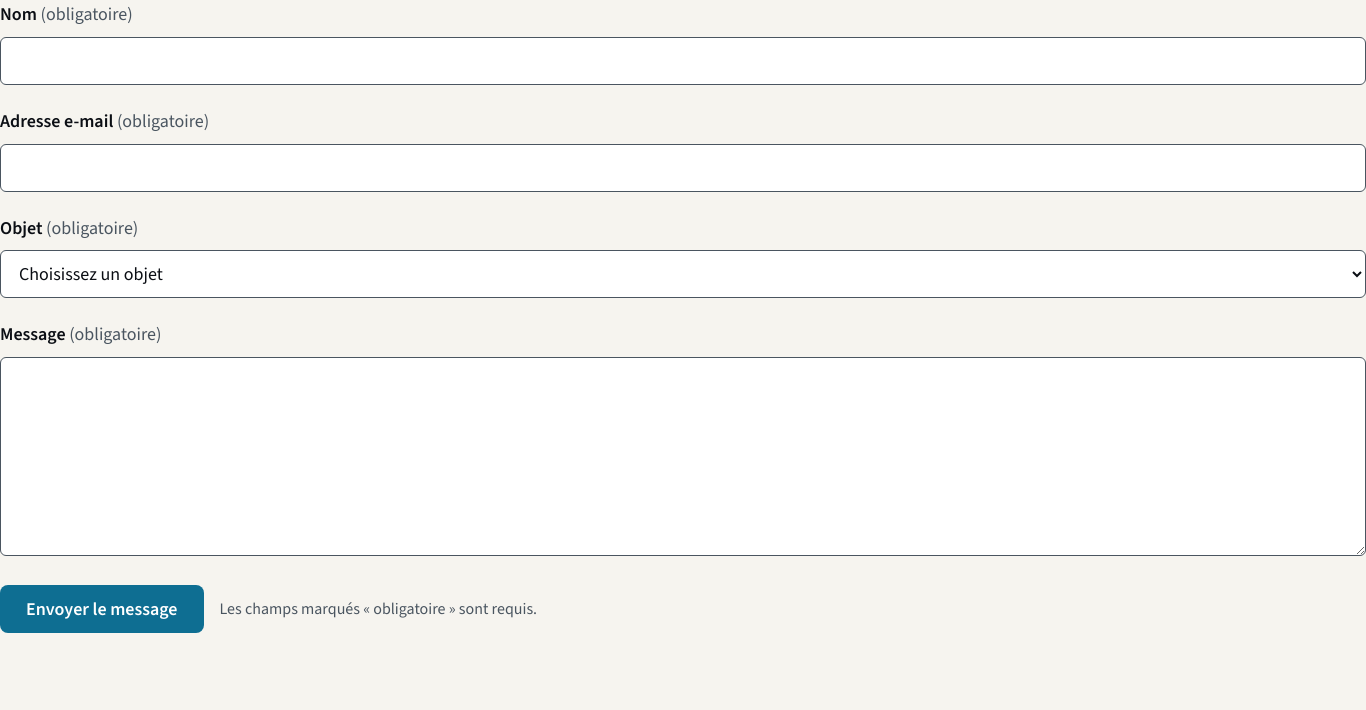
it: ContactForm › should reject a malformed e-mail address
In the field labelled "Adresse e-mail (obligatoire)": (683, 168) [0, 144, 1365, 192], type "pas-une-adresse"
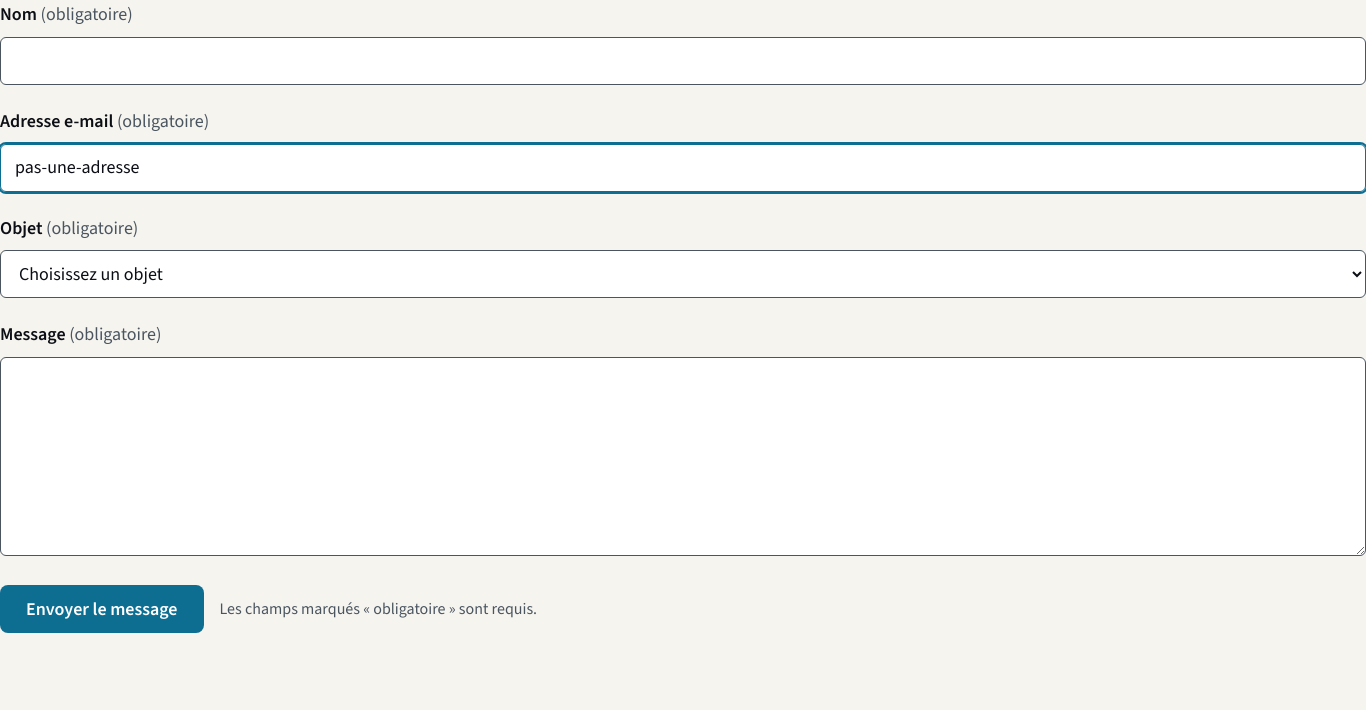
Click the button "Envoyer le message": (102, 609) [0, 585, 204, 633]
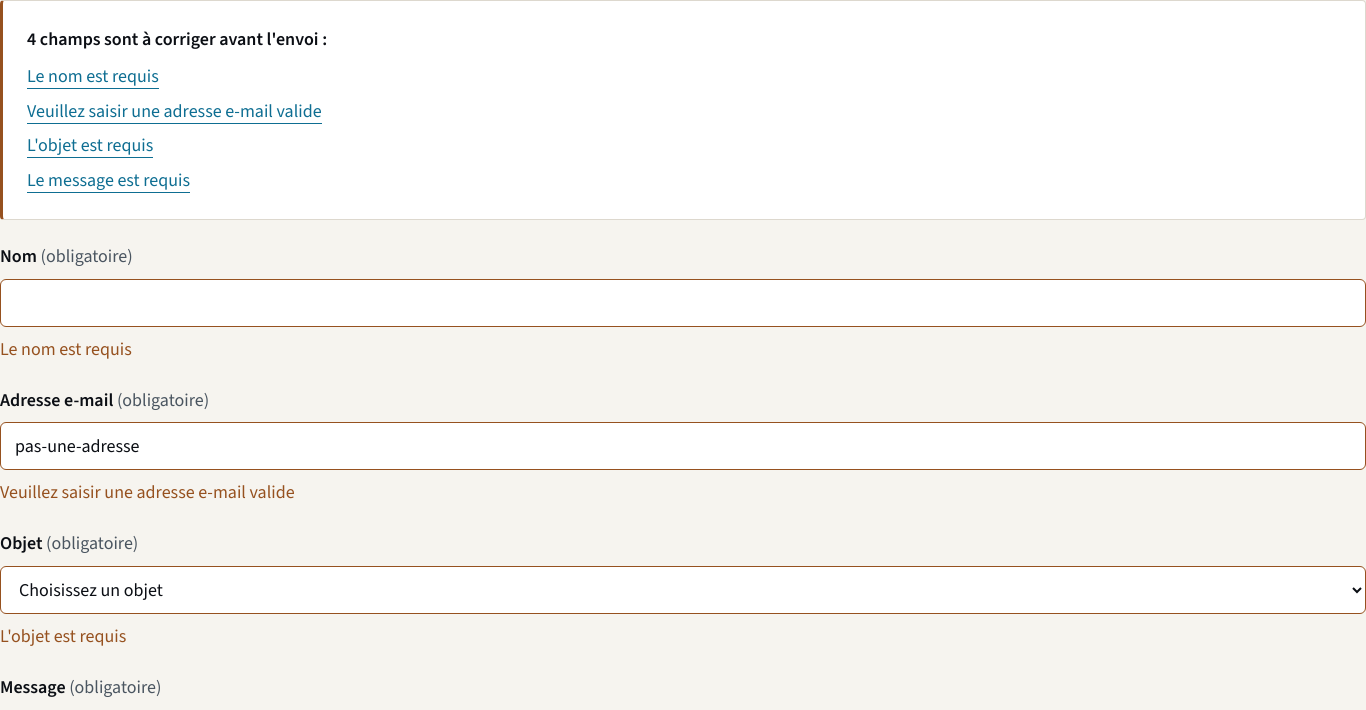
Result: the text "Veuillez saisir une adresse e-mail valide" is shown at [0, 480, 295, 504]
